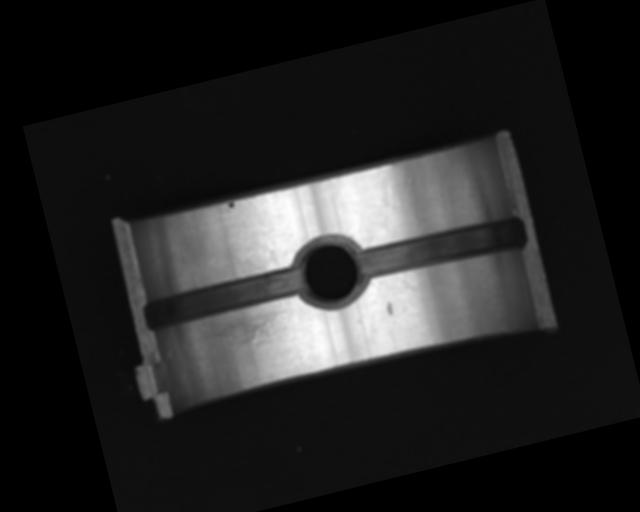blot: (225, 200, 236, 211)
bruise: (384, 300, 394, 316)
gap: (352, 211, 529, 288), (141, 263, 306, 333)
hole: (287, 229, 370, 313)
nick: (378, 186, 404, 242)
scratch: (194, 304, 298, 359)
